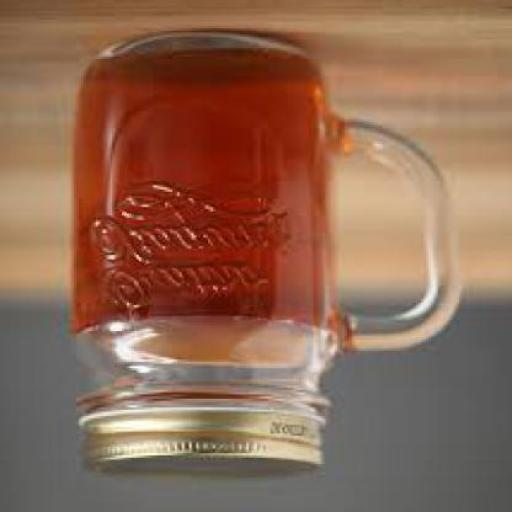biodegradable: (72, 52, 326, 364)
glass: (72, 34, 455, 418)
metal: (79, 409, 323, 477)
